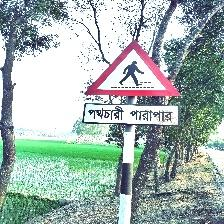Pedestrian-crossing: (82, 39, 182, 128)
